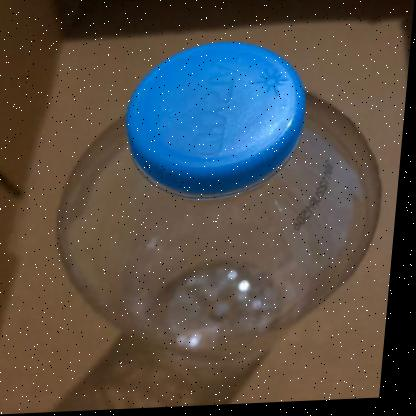bottle cap: (47, 23, 392, 343)
